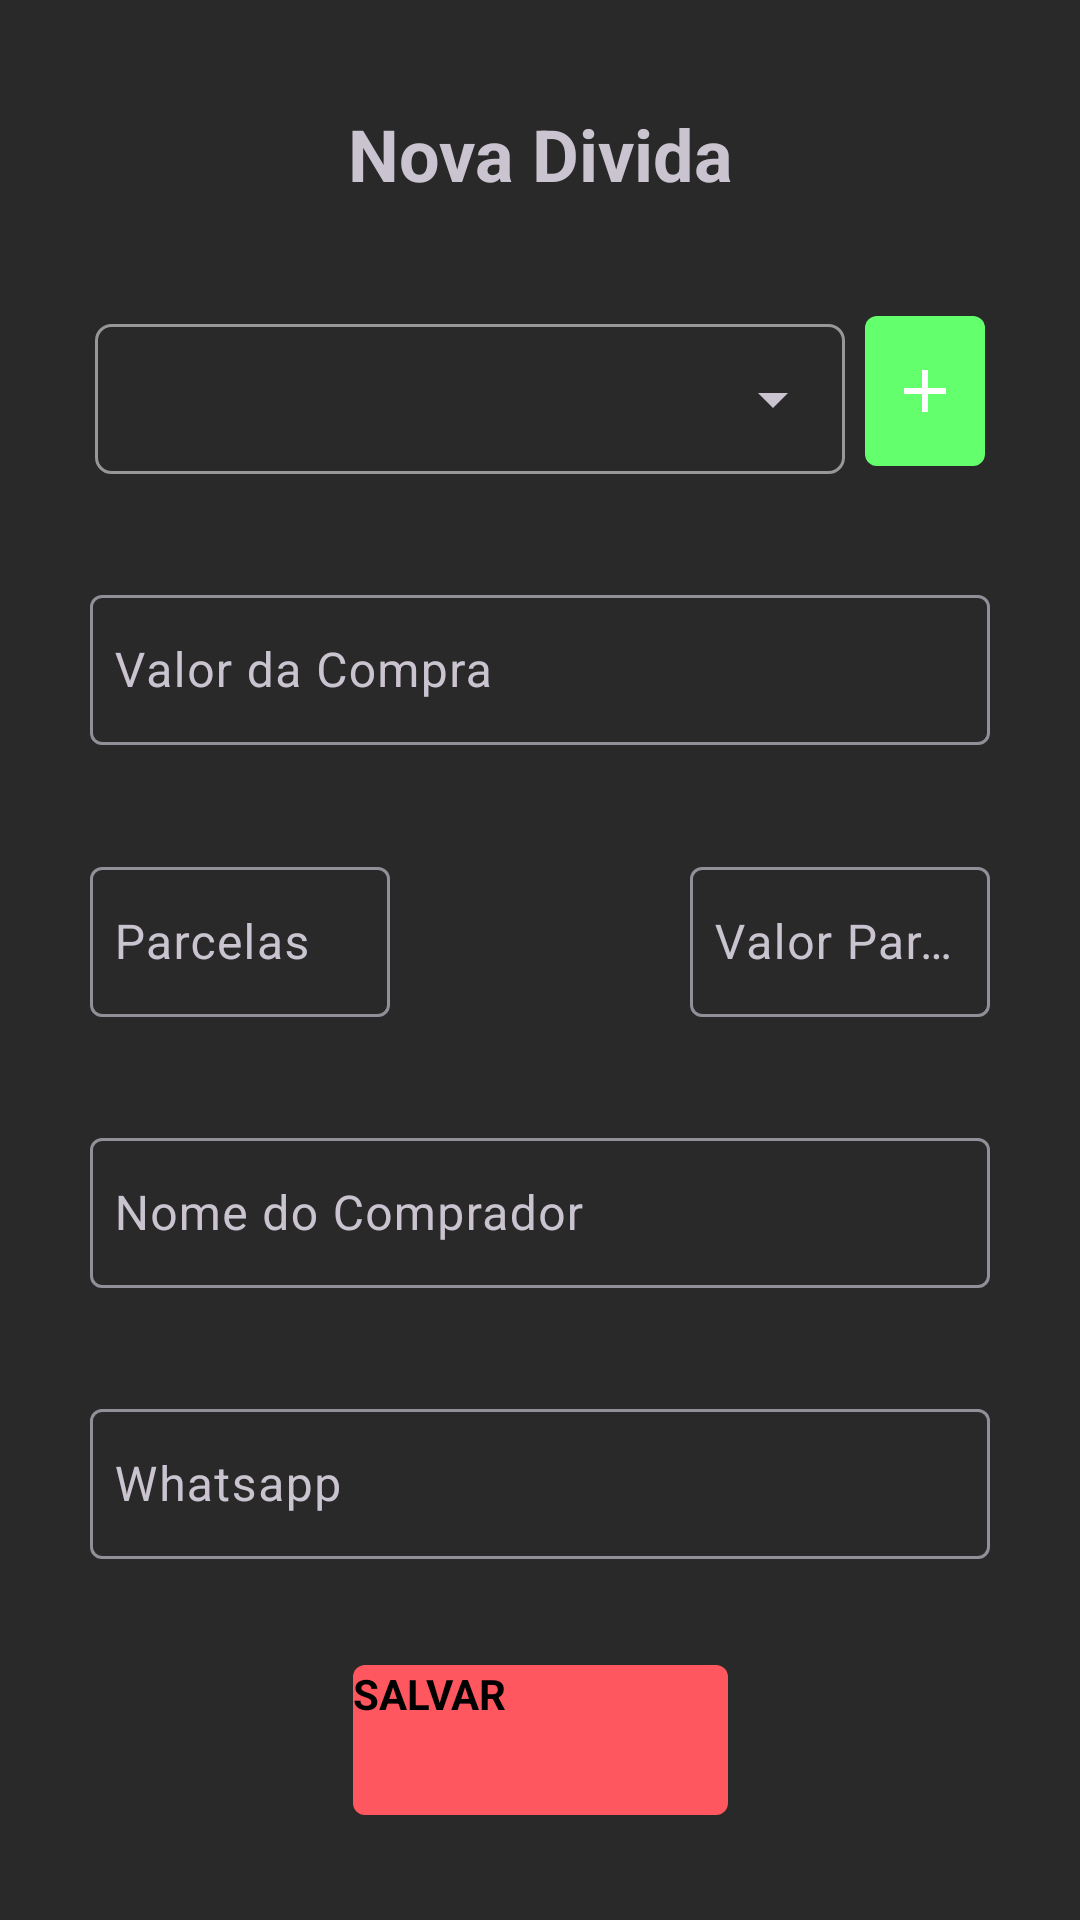

Named icons in this screenshot (1080 × 1920) and their centers, (x,y):
add: (925,391)
